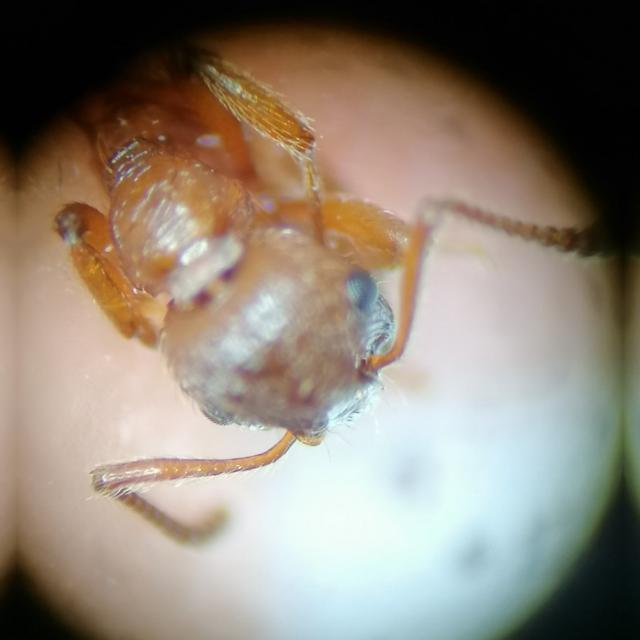Myrmica: (18, 32, 486, 506)
